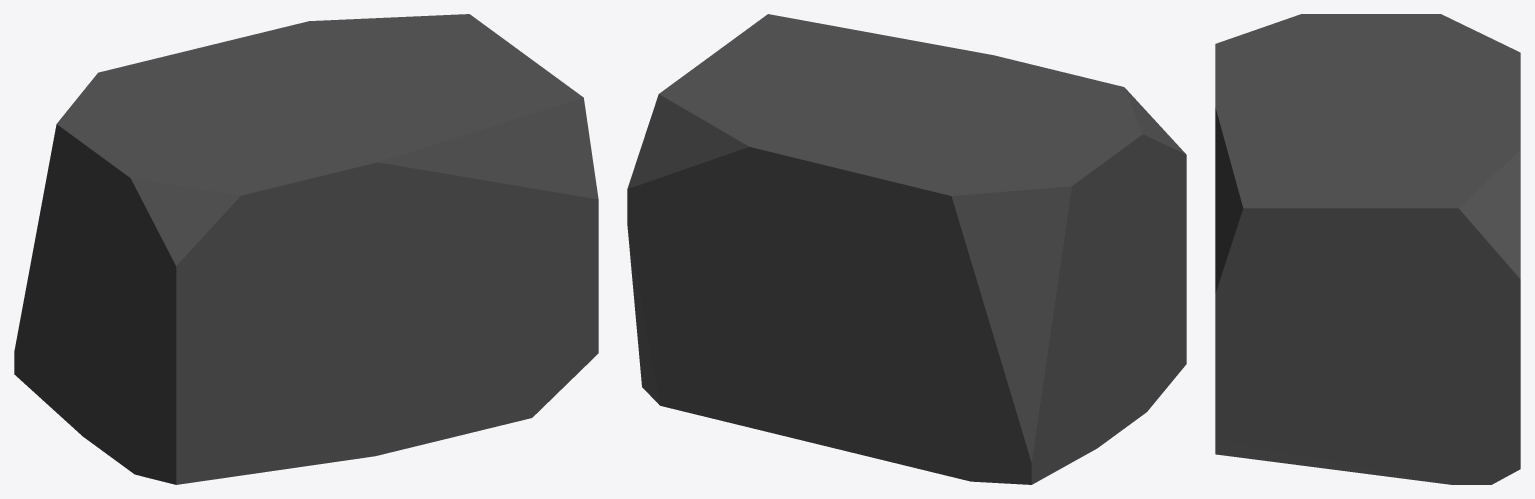
File: Brick_A_08.FBX
3 views of the same model, side by side, from view 1: azimuth 30°, elevation 25°; view 2: azimuth 150°, elevation 25°; view 3: azimuth 270°, elevation 25° (orthographic). The views are drawn at different scales.
Parts seen in each view (by area): view 1: Brick_A_08; view 2: Brick_A_08; view 3: Brick_A_08.
Boxes of the visible parts, left/top/right/bottom form: Brick_A_08: left=14, top=14, right=598, bottom=484; Brick_A_08: left=627, top=14, right=1186, bottom=484; Brick_A_08: left=1215, top=14, right=1520, bottom=484.
Size of the model in its own units: 2 by 1.33 by 1.33.
